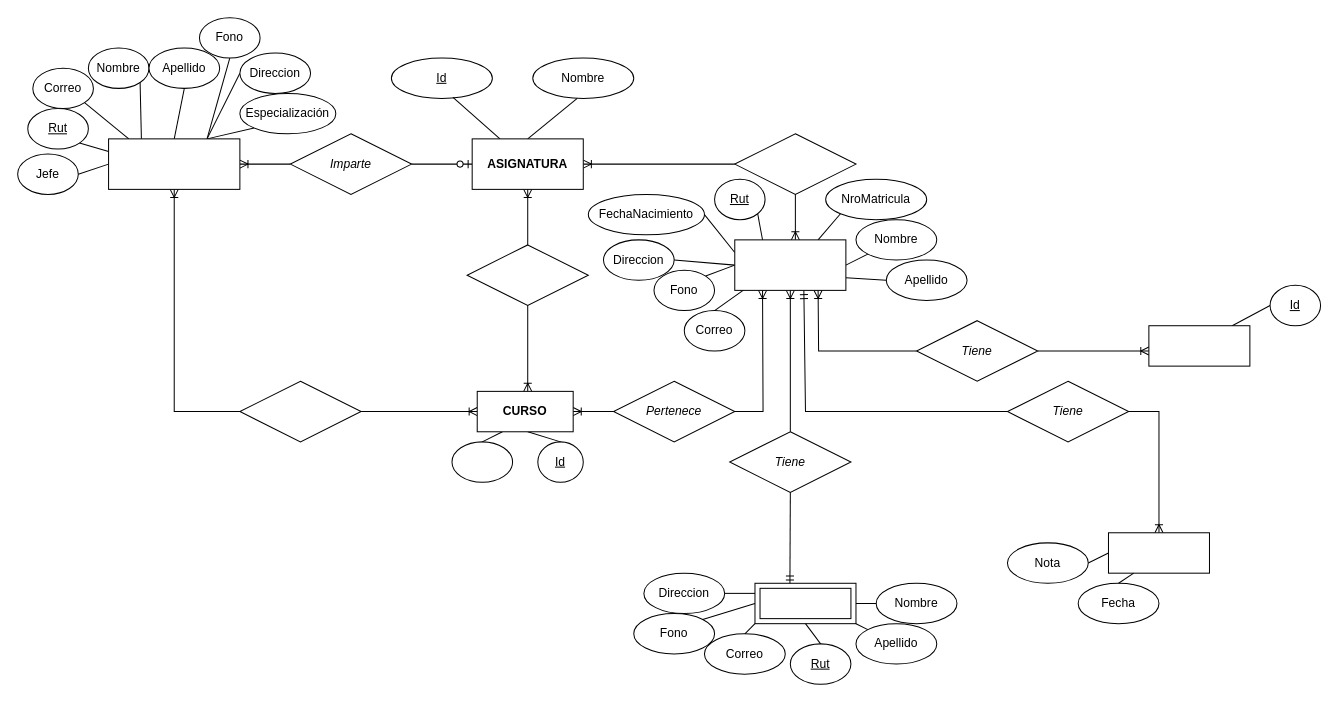
The diagram is 1338 pixels wide and 702 high, and some of its shapes have lost their labels. Here are the shapes that lost their labels. From the top down, the centre of each, then its label:
At point (174, 163): "PROFESOR".
At point (795, 163): "Rinde".
At point (527, 275): "Posee".
At point (790, 264): "ALUMNO".
At point (1199, 345): "SEMESTRE".
At point (300, 411): "Hace clases".
At point (482, 461): "Grado".
At point (1158, 552): "EVALUACIÓN".
At point (805, 603): "APODERADO".
